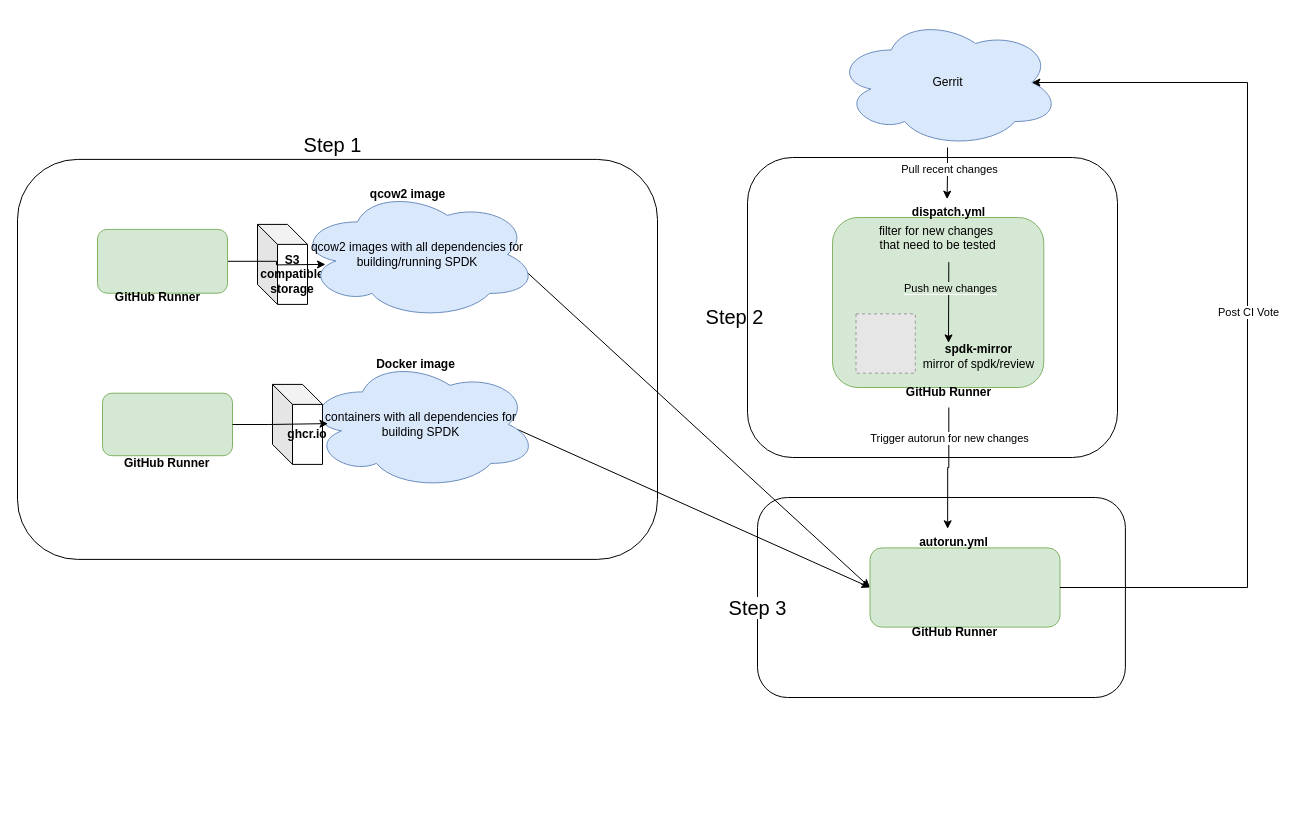
Image size: 1296x819. Some labels were removed from this diagram. Grey dashed boxes stand in for pictures. Here are the shapes that lost their labels. From the top down, the centre of each, then its label:
(162,260): build_qcow2.yml
(167,424): build_container.yml
(964,587): run configured tests (unit, nvme, etc.) on guest-guests
